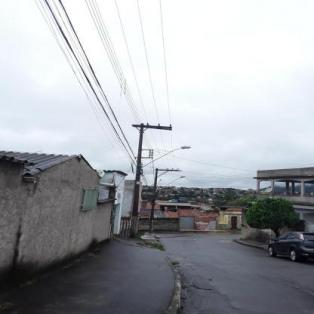Poste: (128, 122, 146, 238), (148, 168, 158, 234)
